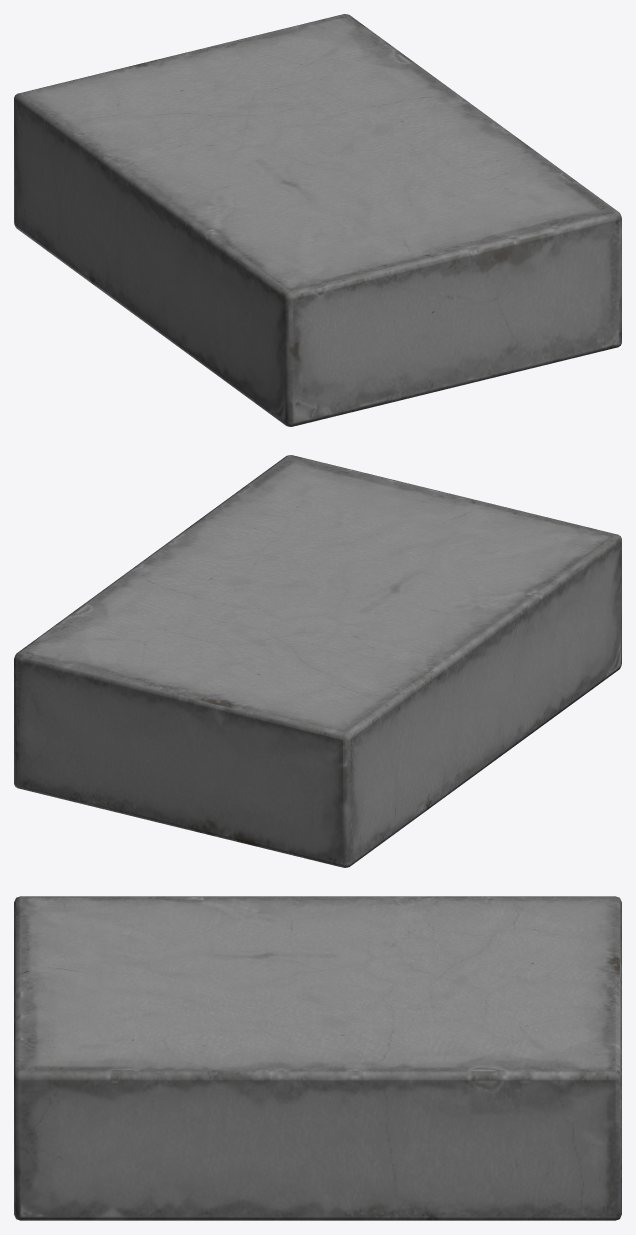
File: ConcreteSlab.glb
3 renders of one model, top to bottom at view 1: azimuth 30°, elevation 25°; view 2: azimuth 150°, elevation 25°; view 3: azimuth 270°, elevation 25°, orthographic. The views are drawn at different scales.
Parts seen in each view (by area): view 1: Concrete_low; view 2: Concrete_low; view 3: Concrete_low.
Part boxes in pixels (left/top/right/bottom): Concrete_low: left=14, top=14, right=621, bottom=426; Concrete_low: left=14, top=455, right=621, bottom=867; Concrete_low: left=14, top=896, right=621, bottom=1220.
Size of the model in its own units: 0.3519 by 0.1351 by 0.5009.
1 material, 1 textured.
